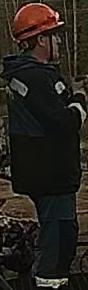gloves: (70, 75, 88, 108)
helmet: (10, 1, 65, 42)
vest: (1, 54, 83, 196)
